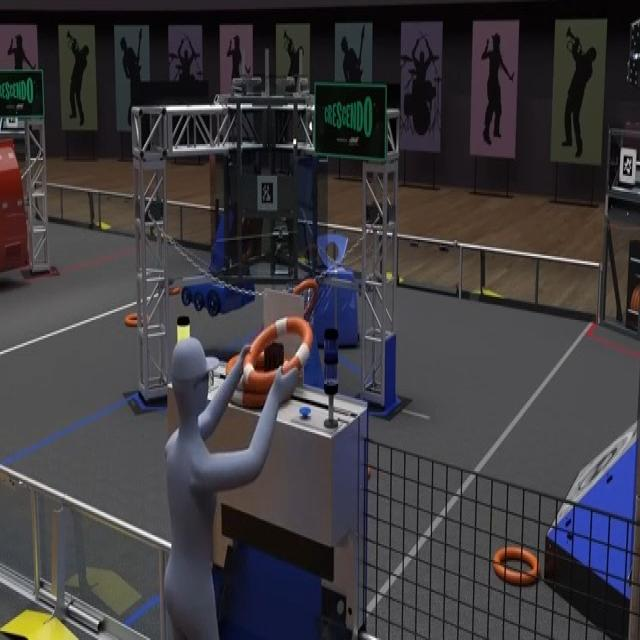notes: (492, 547, 540, 586), (126, 315, 151, 327)
